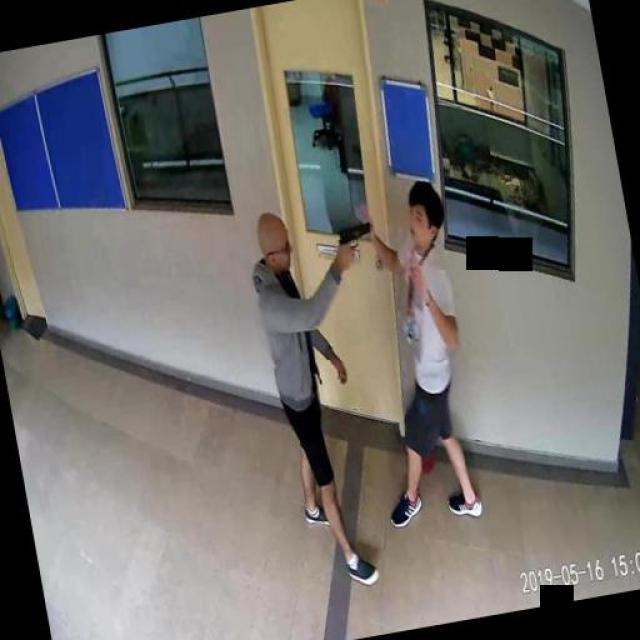gun: (334, 220, 374, 261)
